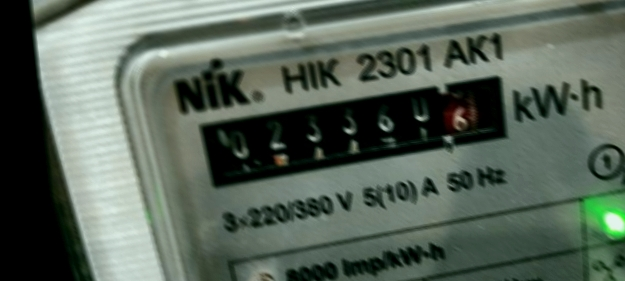0: (225, 124, 251, 160), (405, 90, 431, 123)
2: (263, 115, 287, 150)
3: (336, 100, 359, 135), (299, 110, 321, 143)
6: (371, 98, 396, 133), (447, 99, 471, 134)
screen: (180, 63, 526, 194)
